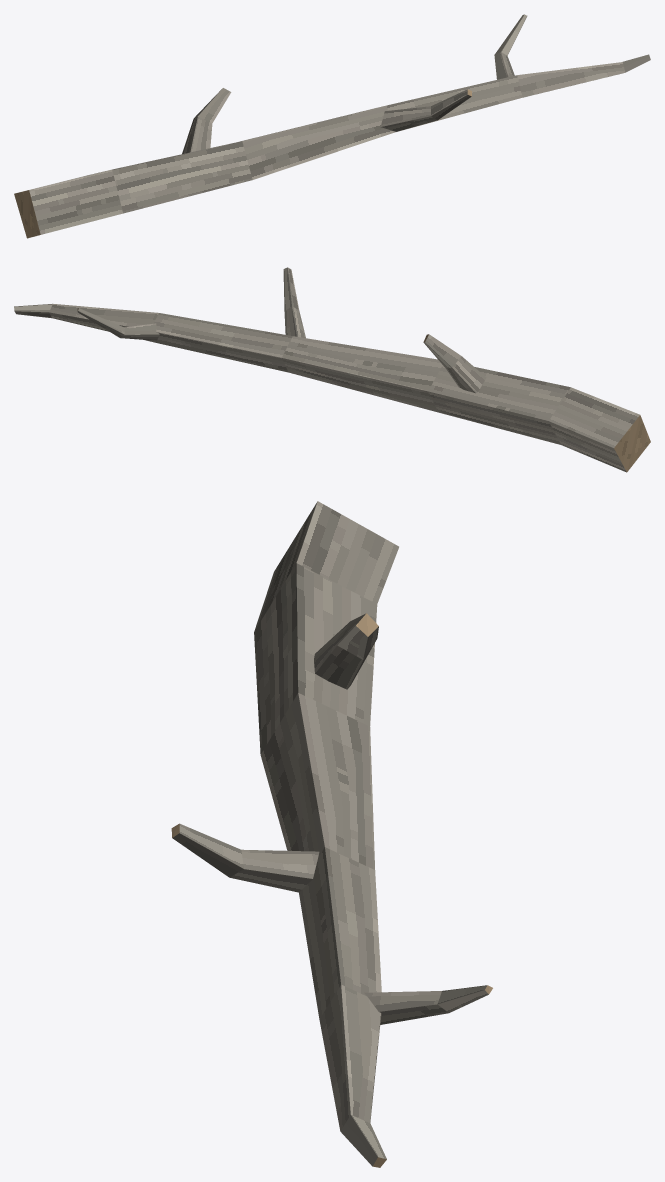
The model's file is long-bole-mid.glb.
3 views of the same model, one above another, from view 1: azimuth 30°, elevation 25°; view 2: azimuth 150°, elevation 25°; view 3: azimuth 270°, elevation 25° (orthographic). The views are drawn at different scales.
Visible parts, largest first — view 1: long-bole.001; view 2: long-bole.001; view 3: long-bole.001.
Part boxes in pixels (x1,y1,x2,y2): long-bole.001: [14, 14, 650, 238]; long-bole.001: [14, 267, 650, 472]; long-bole.001: [171, 501, 492, 1167].
Size of the model in its own units: 10.78 by 1.59 by 2.45.
3 materials, 3 textured.
